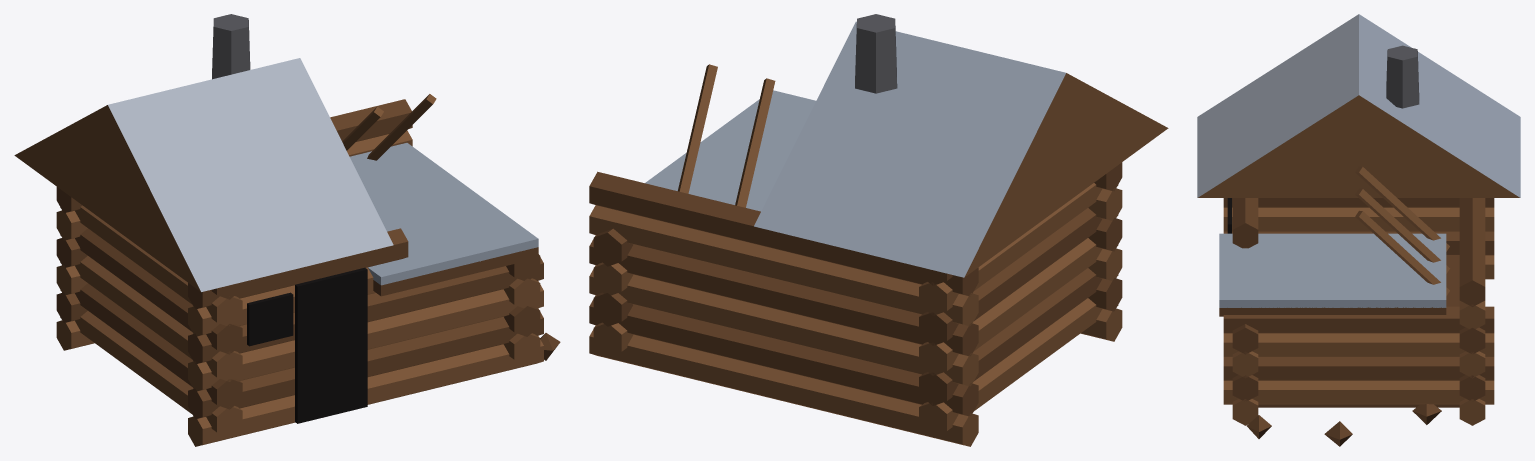
The model's file is cabin_ruin.glb.
3 renders of one model, left to right at view 1: azimuth 30°, elevation 25°; view 2: azimuth 150°, elevation 25°; view 3: azimuth 270°, elevation 25°, orthographic. The views are drawn at different scales.
Visible parts, largest first — view 1: cabin_ruin2; view 2: cabin_ruin2; view 3: cabin_ruin2.
Part boxes in pixels (left/top/right/bottom): cabin_ruin2: left=14, top=14, right=560, bottom=446; cabin_ruin2: left=589, top=14, right=1168, bottom=446; cabin_ruin2: left=1197, top=14, right=1520, bottom=446.
Size of the model in its own units: 4.72 by 3.66 by 3.7.
